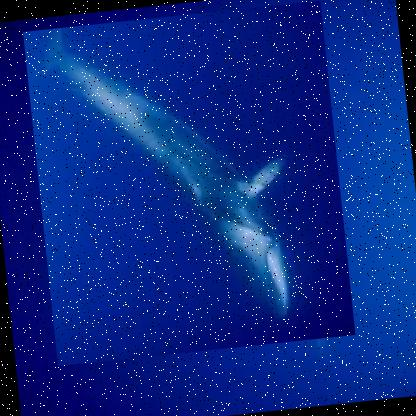blue_whale: (21, 0, 356, 366)
